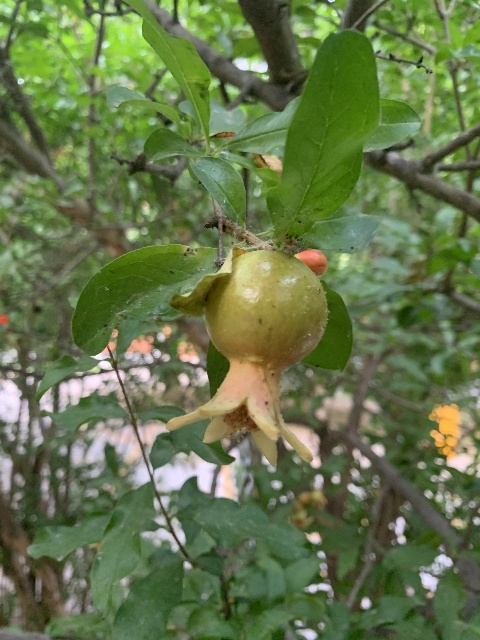bud: (296, 249, 328, 275)
mid-growth: (163, 250, 328, 467)
